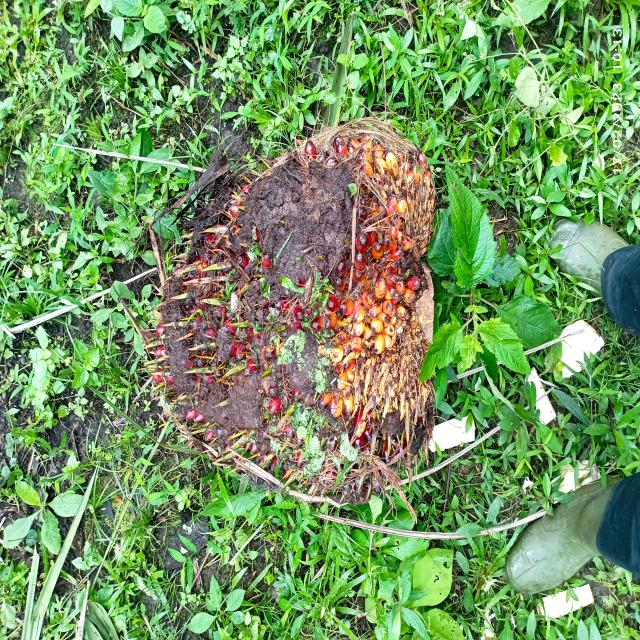fraksi 3: (113, 72, 506, 545)
